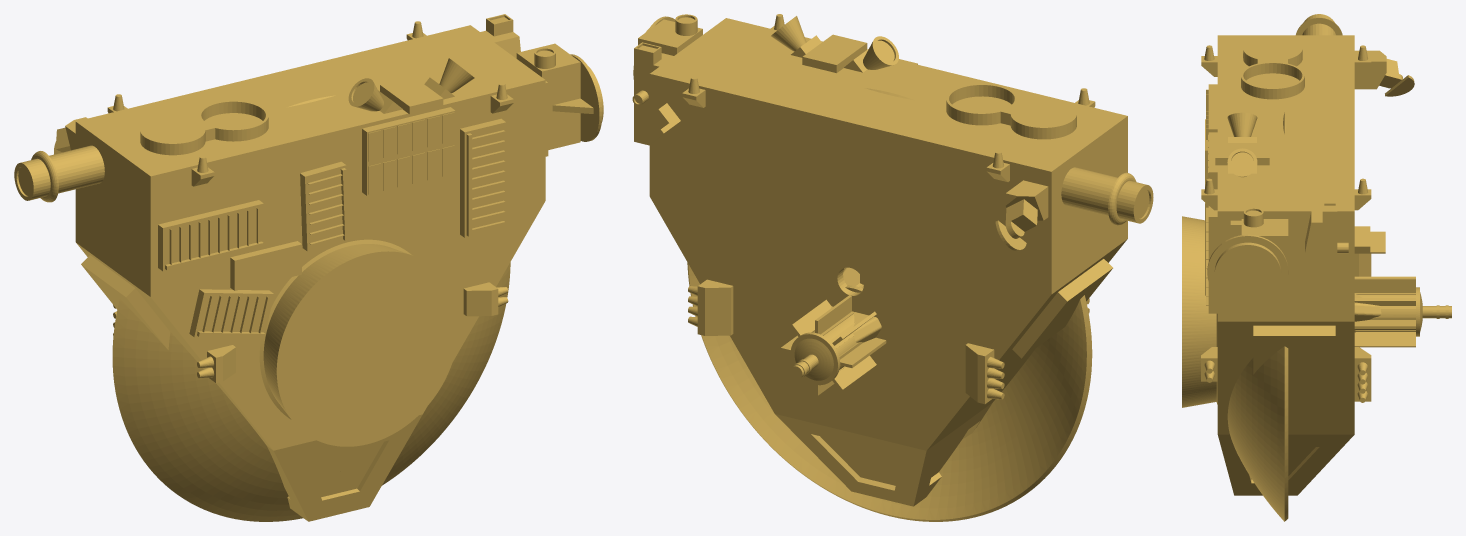
The model's file is new-horizons.glb.
3 renders of one model, left to right at view 1: azimuth 30°, elevation 25°; view 2: azimuth 150°, elevation 25°; view 3: azimuth 270°, elevation 25°, orthographic. The views are drawn at different scales.
Parts seen in each view (by area): view 1: nh_body, nh_body_l, nh_antenna, nh_body_r; view 2: nh_body_l, nh_body_r, nh_body, nh_antenna, nh_rtg; view 3: nh_body, nh_body_r, nh_antenna, nh_body_l, nh_rtg.
Boxes of the visible parts, left/top/right/bottom form: nh_body: left=14, top=14, right=603, bottom=521; nh_body_l: left=14, top=94, right=366, bottom=521; nh_antenna: left=112, top=95, right=510, bottom=521; nh_body_r: left=338, top=17, right=603, bottom=495; nh_body_l: left=850, top=83, right=1153, bottom=506; nh_body_r: left=632, top=14, right=917, bottom=486; nh_body: left=633, top=14, right=1151, bottom=505; nh_antenna: left=687, top=88, right=1092, bottom=521; nh_rtg: left=780, top=295, right=886, bottom=395; nh_body: left=1182, top=14, right=1414, bottom=491; nh_body_r: left=1182, top=112, right=1370, bottom=495; nh_antenna: left=1216, top=112, right=1451, bottom=521; nh_body_l: left=1182, top=14, right=1414, bottom=276; nh_rtg: left=1354, top=276, right=1422, bottom=347.
Bounding box in the file's own units: 5.42 × 4.41 × 2.66.
